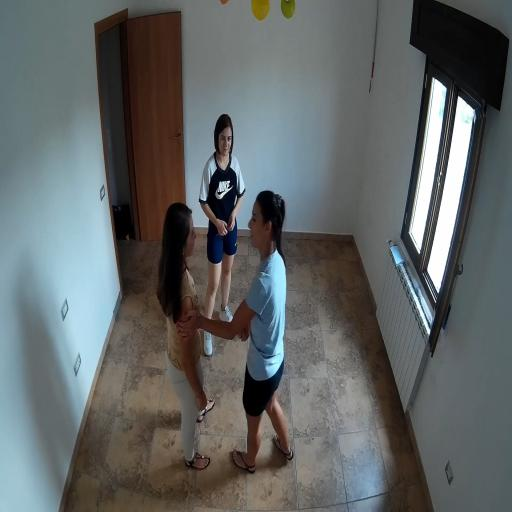nao-violencia: (141, 174, 313, 478)
